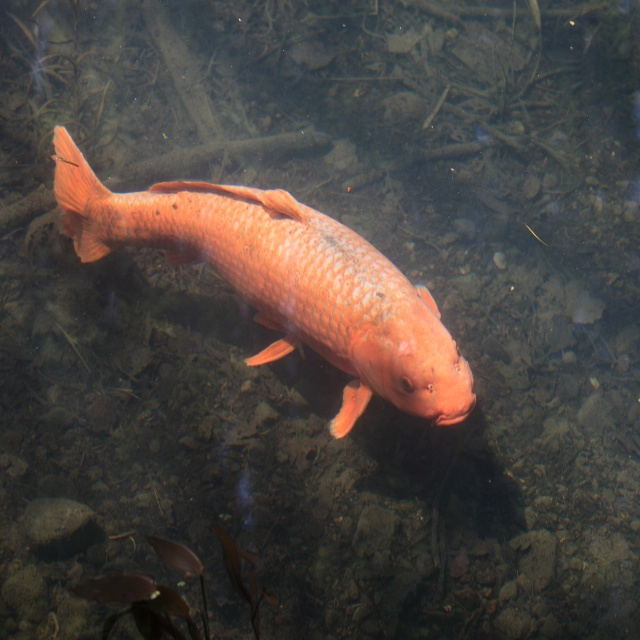Goldfish: (60, 119, 479, 431)
